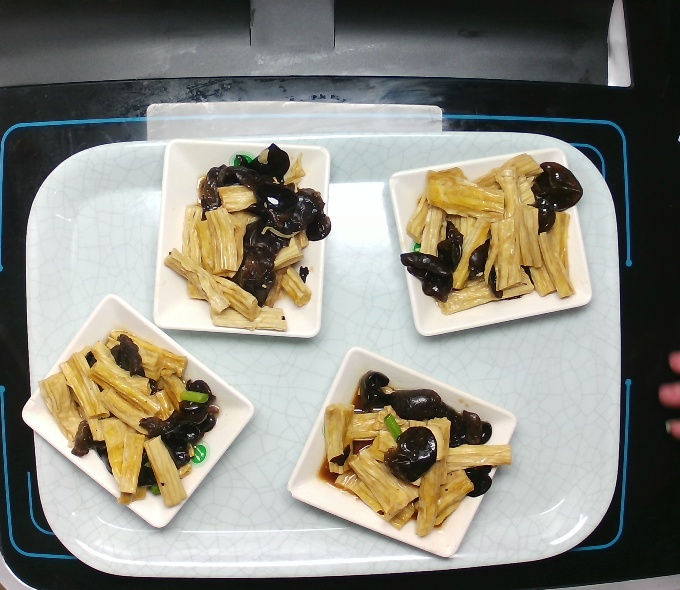wcq-MuErFuZhu: (22, 326, 220, 508), (159, 139, 329, 335), (398, 150, 587, 321), (316, 366, 504, 532)
